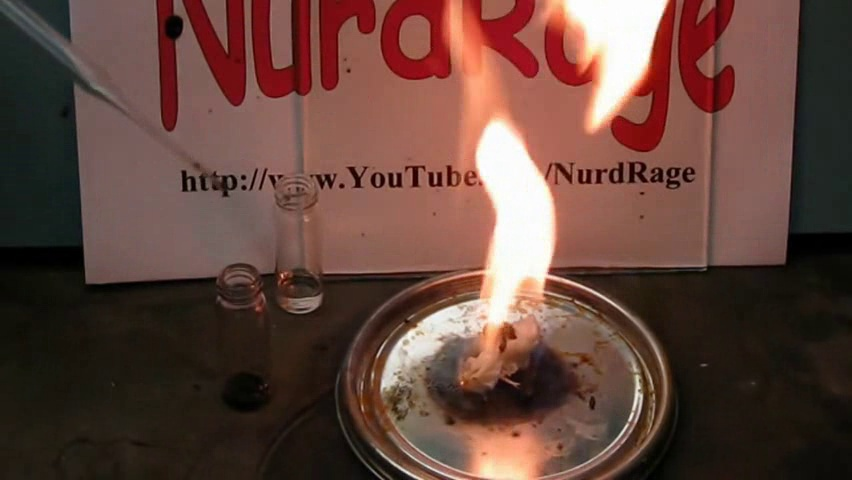fire: (429, 6, 560, 384)
